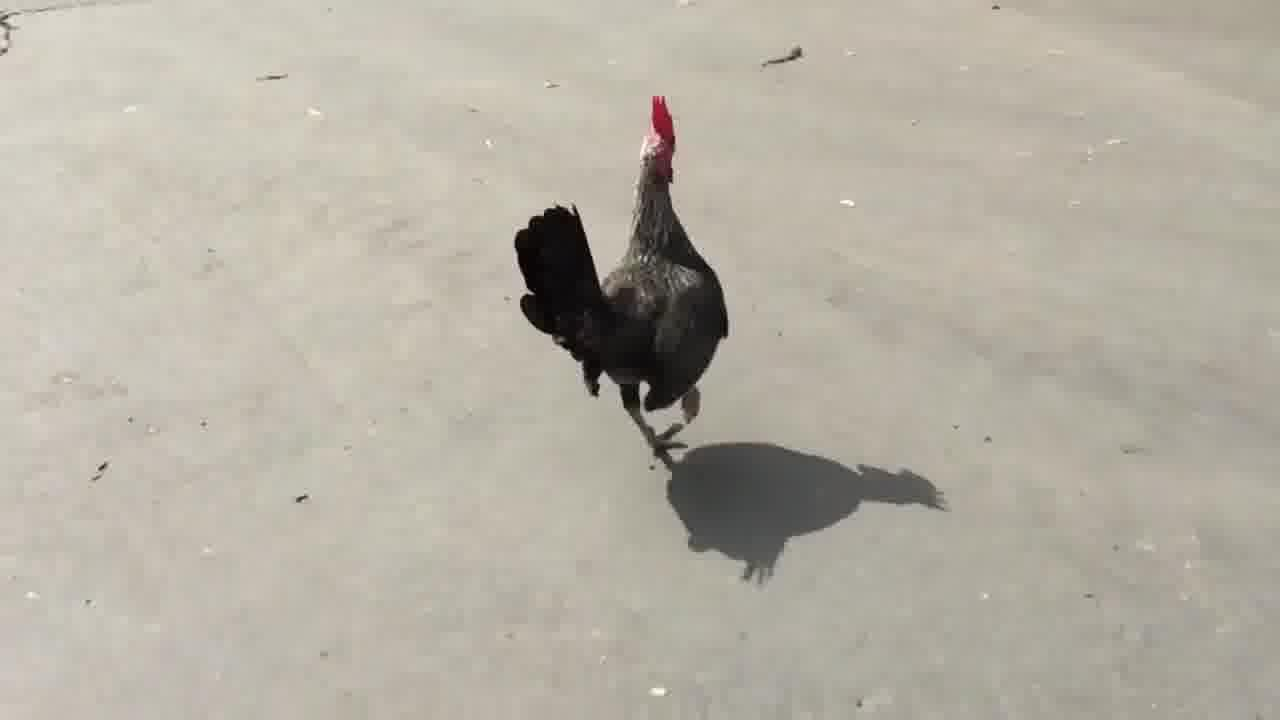Normal: (502, 92, 758, 460)
